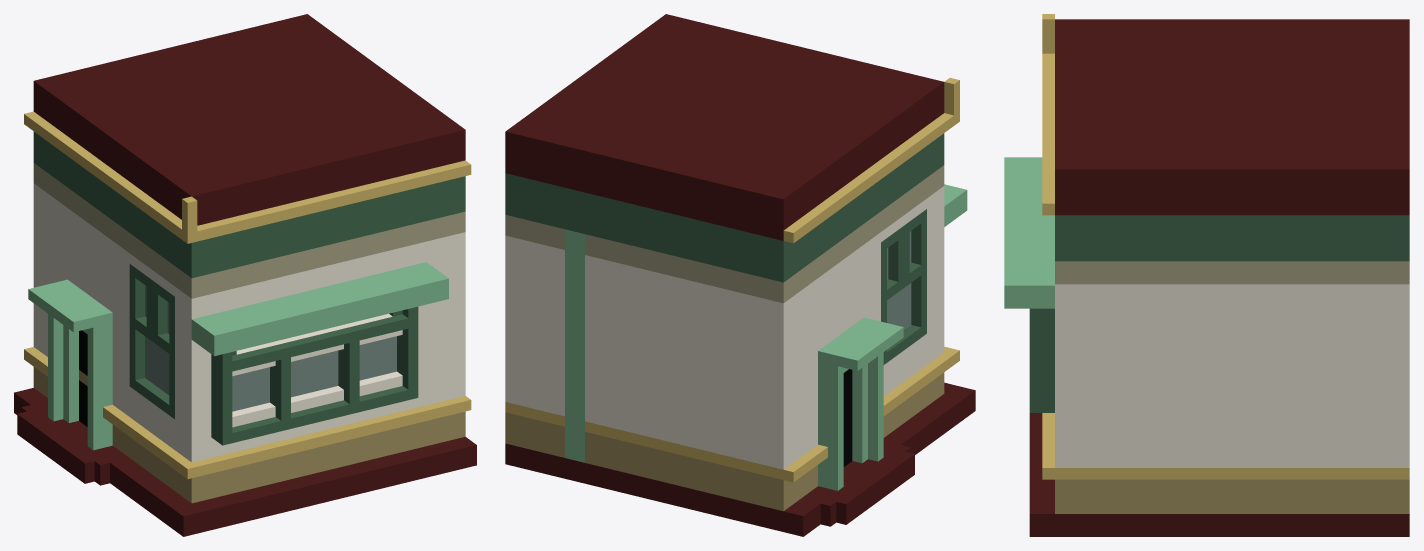
Rendered from tile_1_left_nr_corner_90.obj.
3 renders of one model, left to right at view 1: azimuth 30°, elevation 25°; view 2: azimuth 150°, elevation 25°; view 3: azimuth 270°, elevation 25°, orthographic. The views are drawn at different scales.
Size of the model in its own units: 3.2 by 3.2 by 3.2.
1 material, 1 textured.
